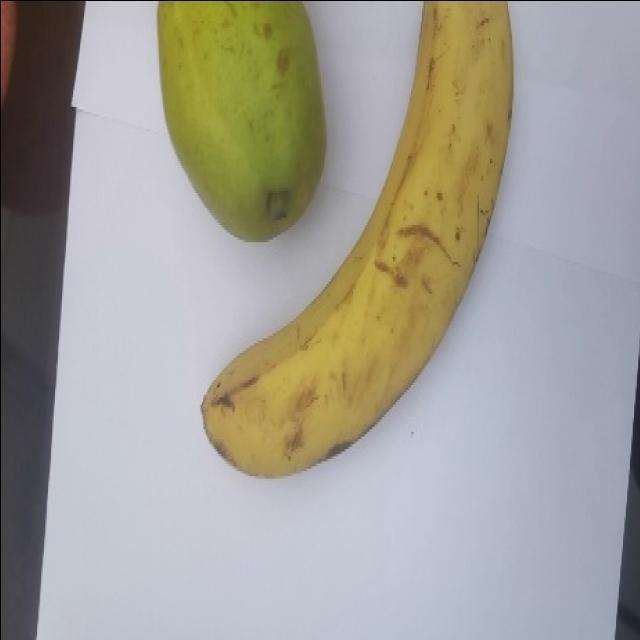Banana: (199, 0, 514, 478)
